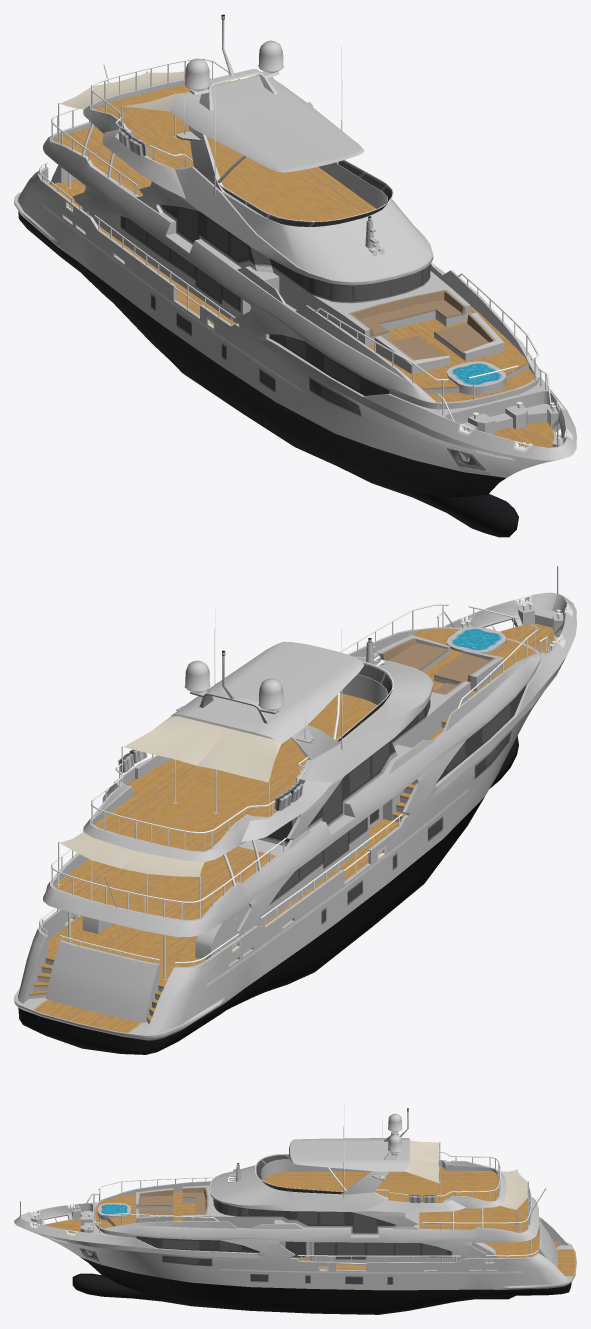
The model's file is yacht.glb.
The picture shows the model from 3 angles, top to bottom: view 1: azimuth 30°, elevation 25°; view 2: azimuth 150°, elevation 25°; view 3: azimuth 270°, elevation 25°; orthographic projection. The views are drawn at different scales.
Parts seen in each view (by area): view 1: korpus1; view 2: korpus1; view 3: korpus1.
Part boxes in pixels (x1,y1,x2,y2): korpus1: (14,14,576,537); korpus1: (14,566,576,1054); korpus1: (14,1104,576,1314).
Size of the model in its own units: 8.21 by 15.65 by 40.33.
Materials: 1 (1 with a texture image).
